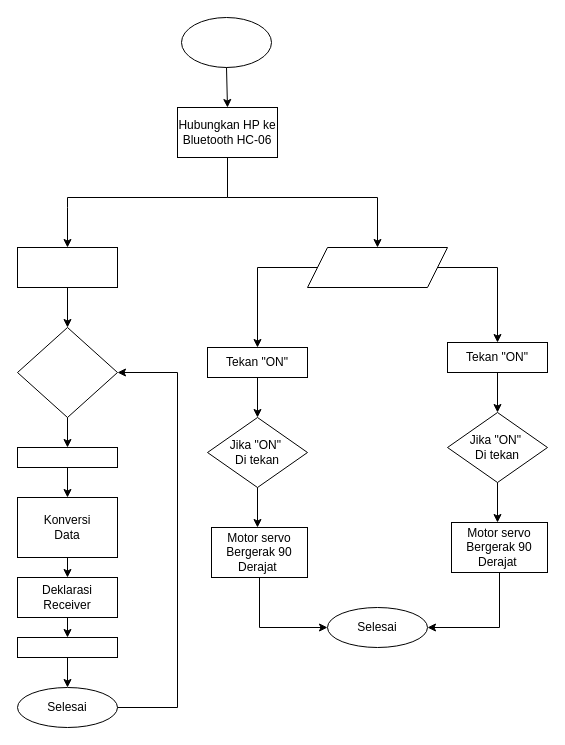
The diagram is 565 pixels wide and 745 high, and some of its shapes have lost their labels. The centre of each missing label's shape, as x and y in pixels:
"Analisis Data" goes at point (67, 457).
"Inisialisasi Sensor pH" goes at point (67, 267).
"Input Data dari Sensor pH" goes at point (67, 372).
"Kirim" goes at point (67, 647).
"Masukkan Data" goes at point (377, 267).
"Mulai" goes at point (226, 42).
